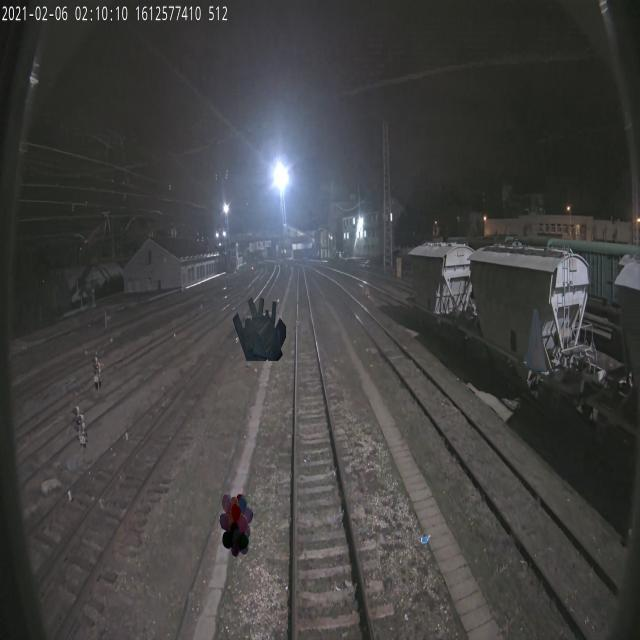balloon: (220, 493, 253, 557)
floating object: (526, 308, 547, 372)
plastic bag: (232, 297, 286, 361)
